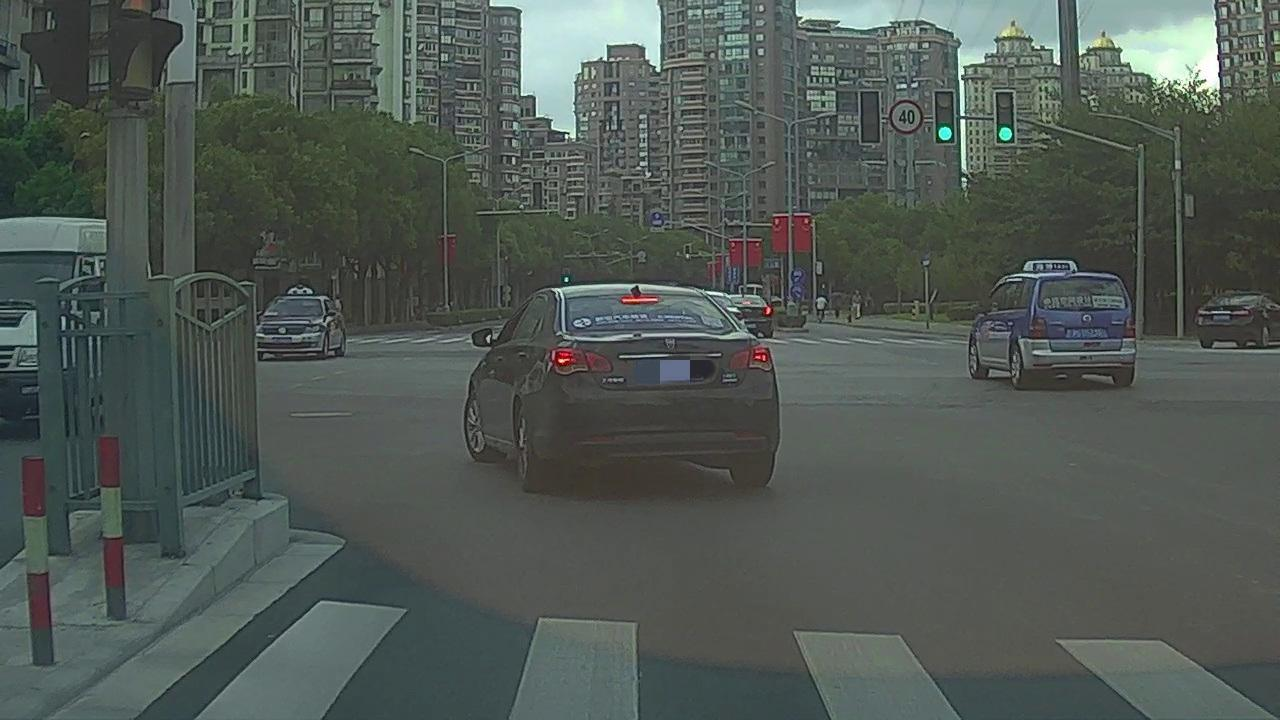traffic_light: (935, 91, 955, 143), (861, 92, 879, 143), (996, 92, 1014, 143)
